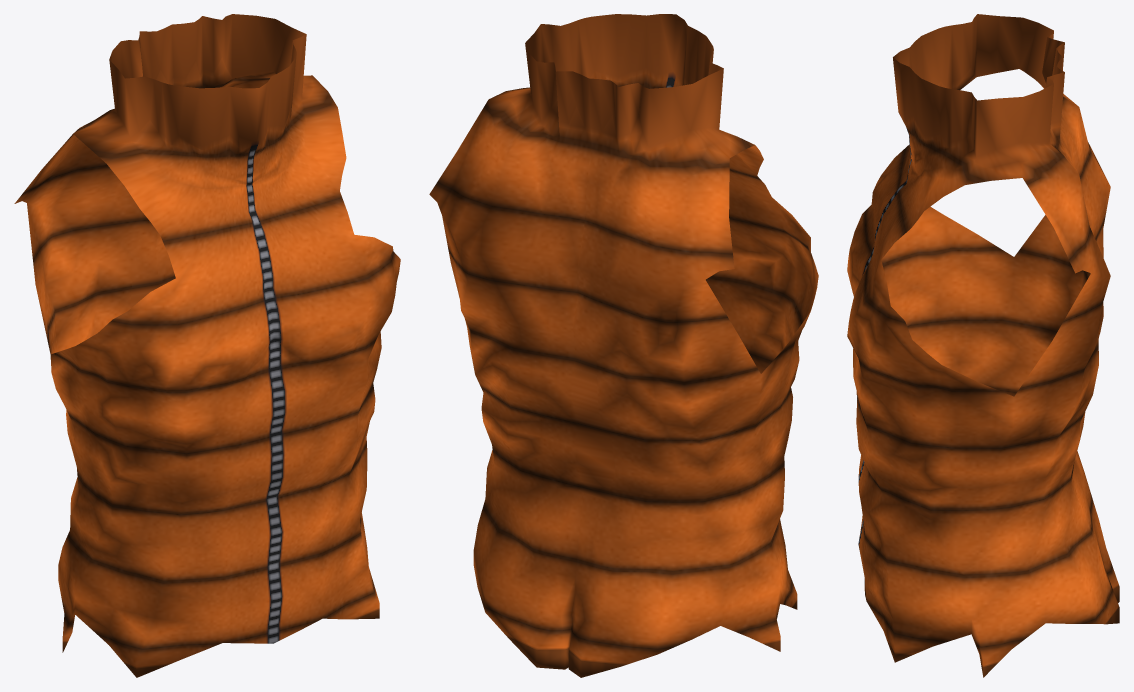
The model's file is puffer_vest.obj.
3 renders of one model, left to right at view 1: azimuth 30°, elevation 25°; view 2: azimuth 150°, elevation 25°; view 3: azimuth 270°, elevation 25°, orthographic. The views are drawn at different scales.
Parts seen in each view (by area): view 1: puffer_vest; view 2: puffer_vest; view 3: puffer_vest.
Part boxes in pixels (x1,y1,x2,y2): puffer_vest: (14,14,400,677); puffer_vest: (429,14,818,677); puffer_vest: (847,14,1119,677).
Bounding box in the file's own units: 0.377 × 0.6479 × 0.2868.
Materials: 1 (1 with a texture image).
